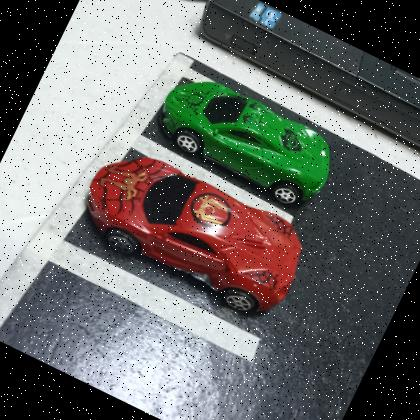Car: (66, 132, 318, 330), (143, 60, 346, 217)
